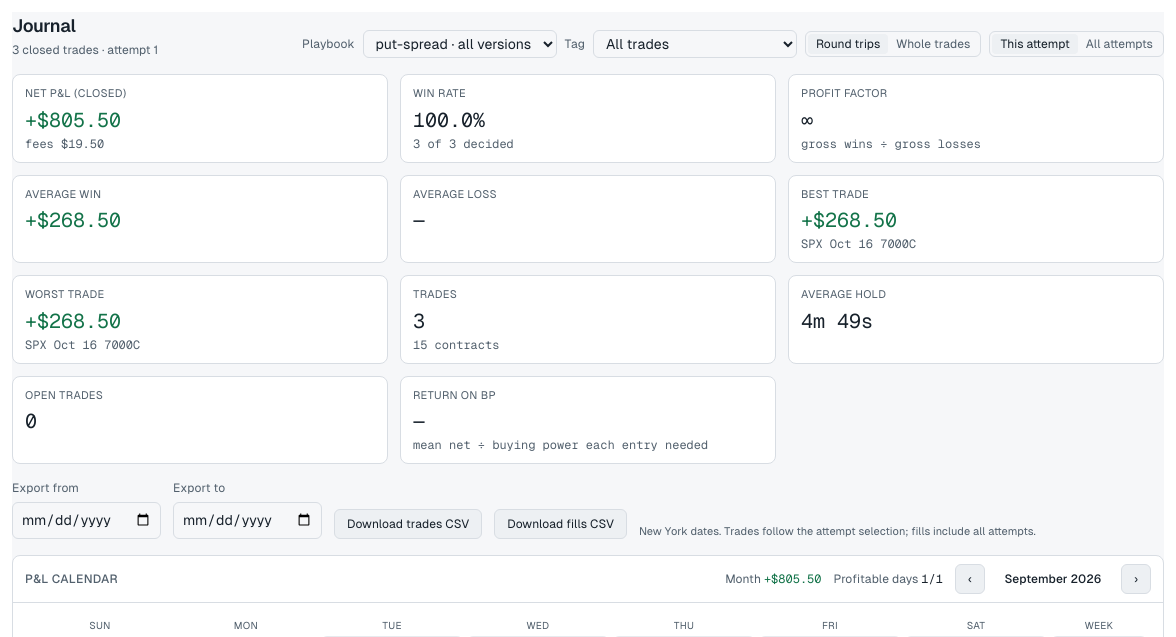
Playbooks page and staged actions › filters Journal across all versions of a playbook while retaining other filters
This screenshot has width=1176, height=637.
Select "put-spread · all versions" in the dropdown named "Playbook" at x=460, y=44, box [362,30,556,58]
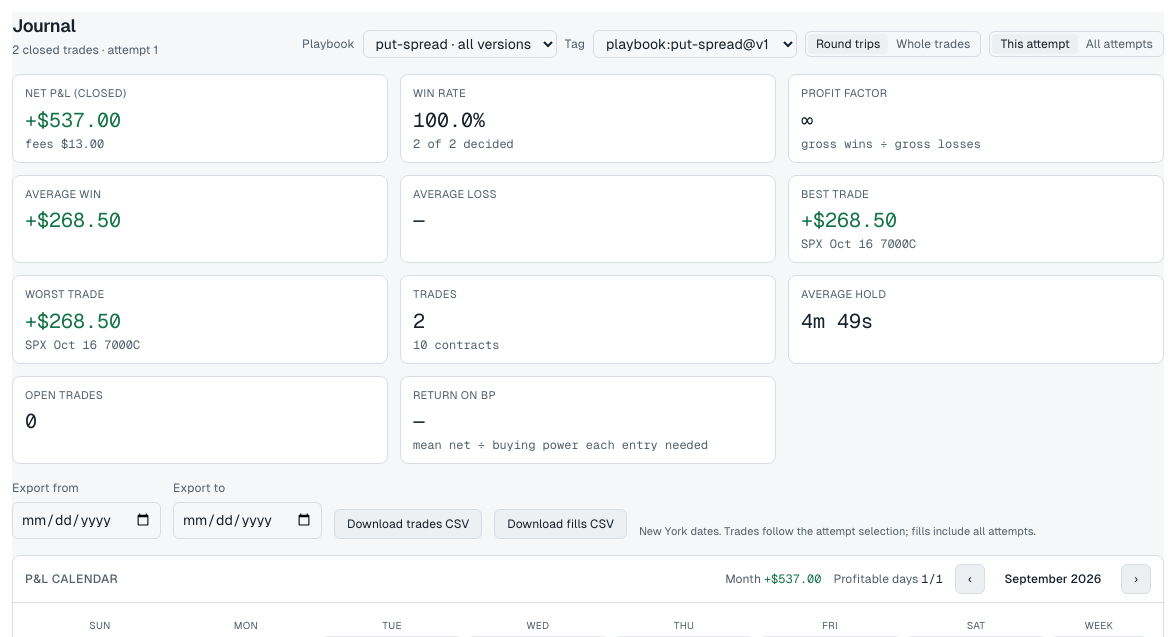
Now the text "2 closed trades" is shown, box [12,43,158,57]
Select "playbook:put-spread@v1" in the dropdown named "Tag" at x=695, y=44, box [593,30,797,58]
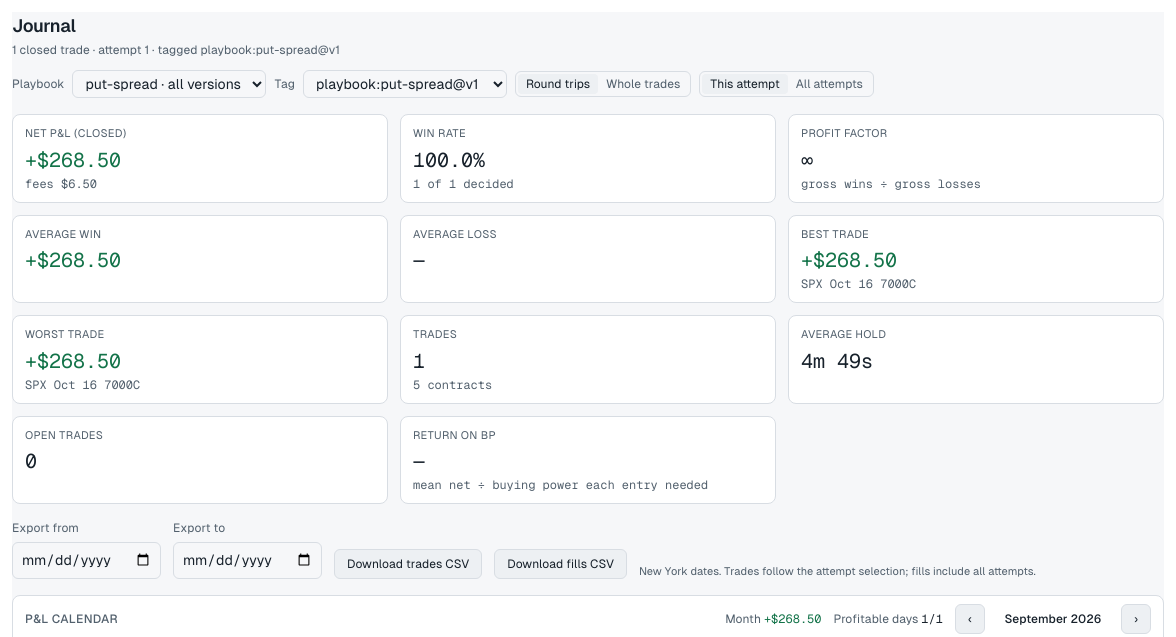
Now the text "1 closed trade" is shown, box [12,43,340,57]
